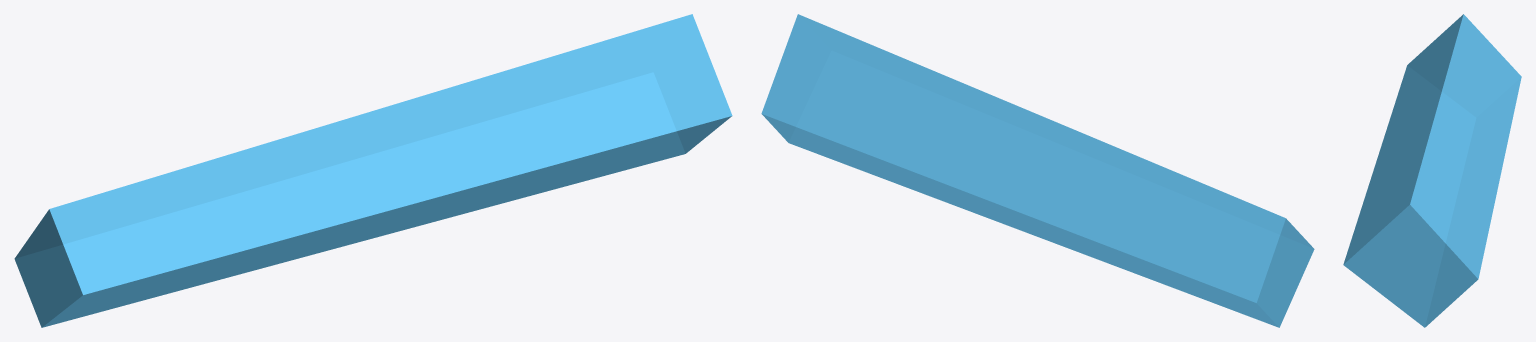
Rendered from Event_420094457_HErechit_45.fbx.
The picture shows the model from 3 angles, left to right: view 1: azimuth 30°, elevation 25°; view 2: azimuth 150°, elevation 25°; view 3: azimuth 270°, elevation 25°; orthographic projection. The views are drawn at different scales.
Visible parts, largest first — view 1: Model; view 2: Model; view 3: Model.
Part boxes in pixels (x1,y1,x2,y2): Model: (14, 14, 732, 327); Model: (761, 14, 1314, 327); Model: (1343, 14, 1521, 327).
Bounding box in the file's own units: 1.86 × 0.563 × 0.563.
